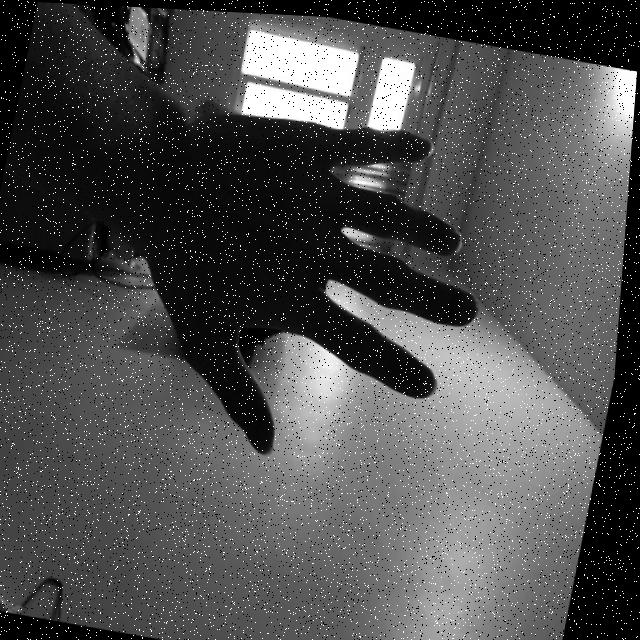hand: (120, 81, 518, 484)
